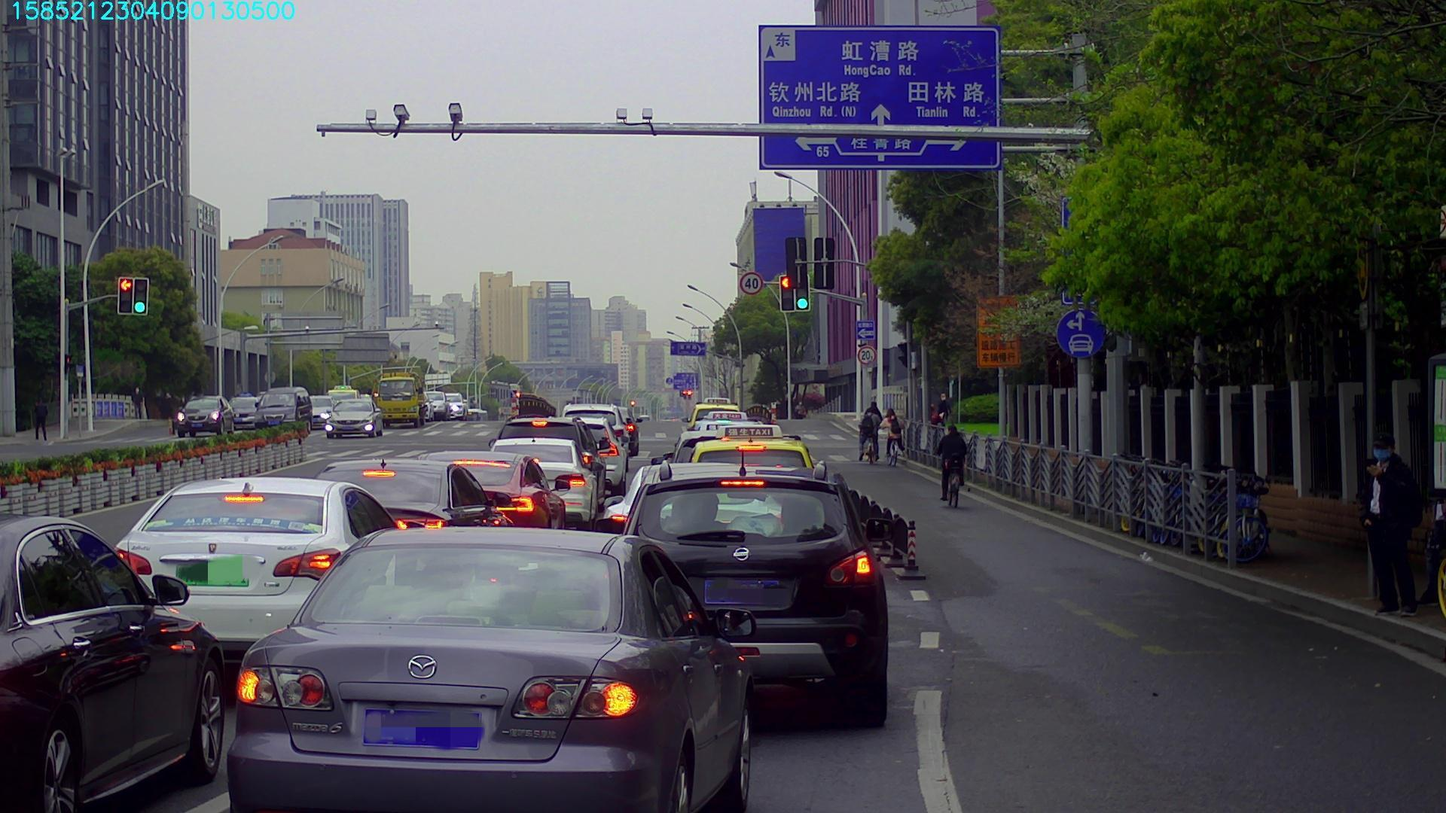green: (793, 274, 809, 310), (133, 277, 146, 313)
red: (117, 277, 133, 312), (779, 275, 794, 310)
